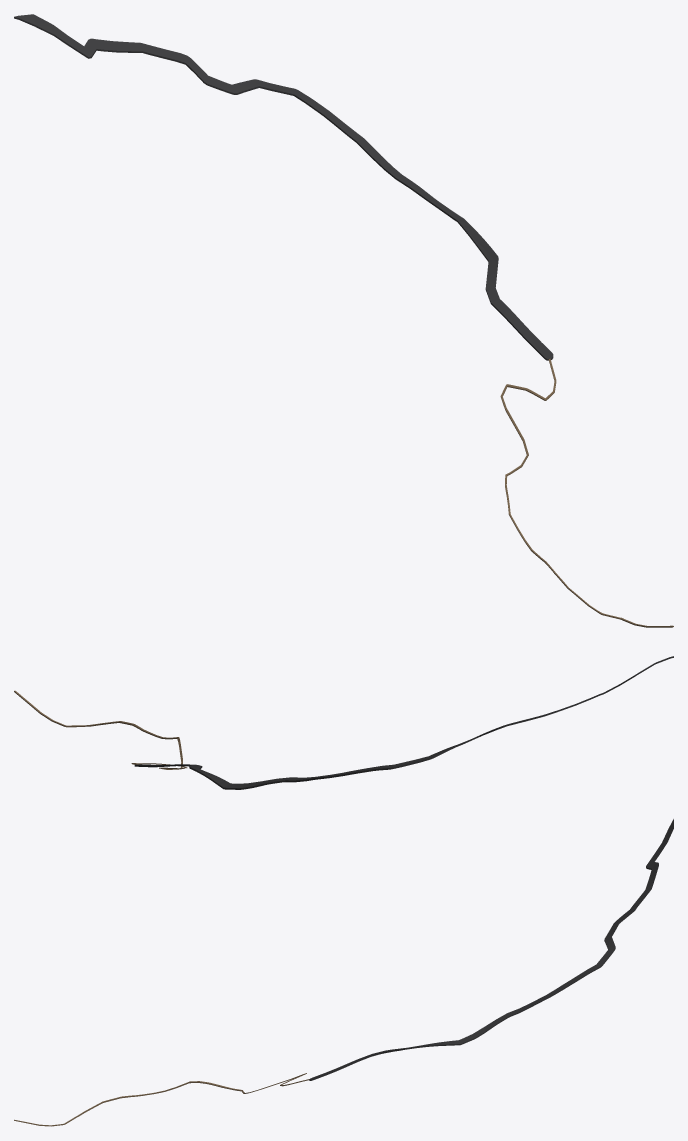
The picture shows the model from 3 angles, top to bottom: view 1: azimuth 30°, elevation 25°; view 2: azimuth 210°, elevation 25°; view 3: azimuth 270°, elevation 25°; orthographic projection. The views are drawn at different scales.
Size of the model in its own units: 219 by 234 by 578.
